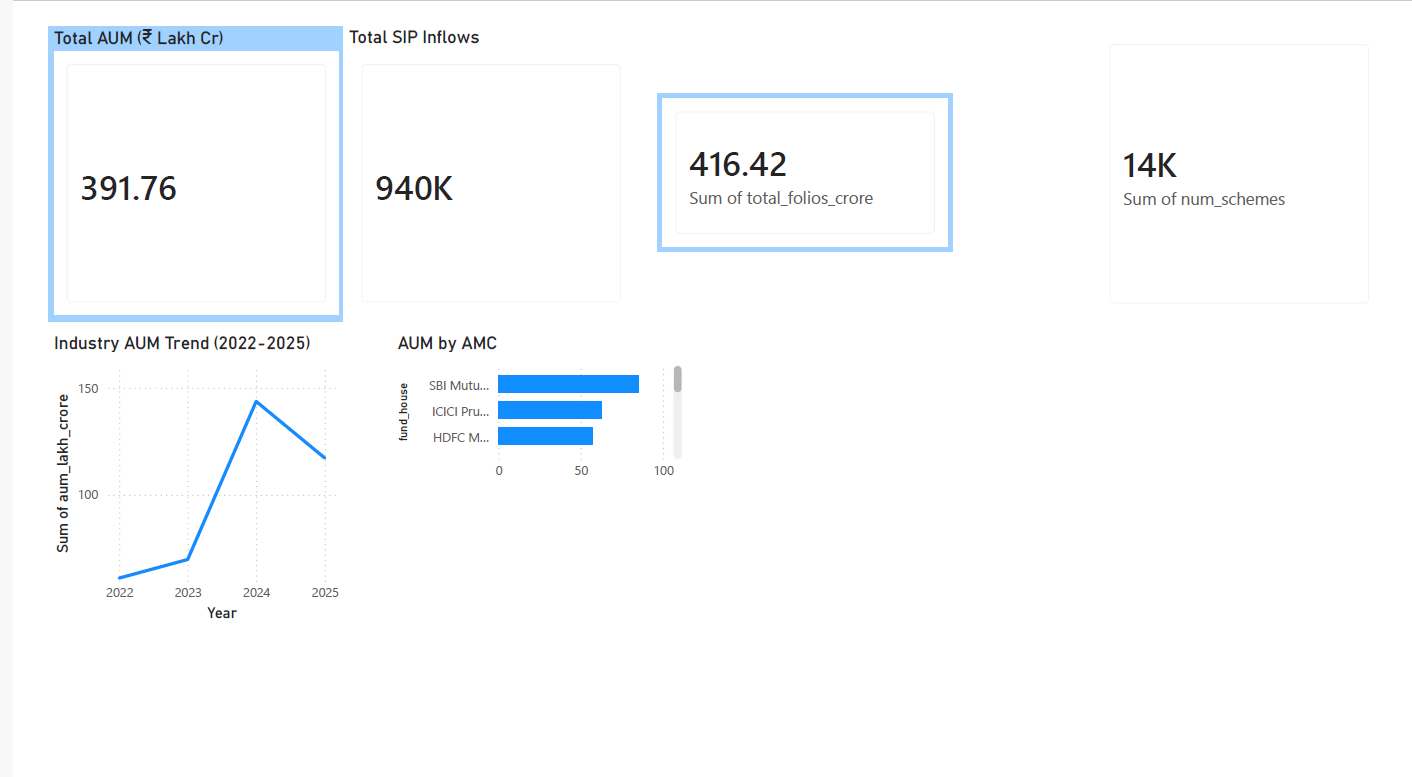

Layout of this report page (visuals, bound fields, positions):
{"tool":"powerbi","page":{"name":"Industry Overview","canvas":[1280,720],"ordinal":0},"visuals":[{"type":"cardVisual","title":"Total AUM (₹ Lakh Cr)","fields":{"Data":["Sum(03_aum_by_fund_house.aum_lakh_crore)"]},"box":[10,0,280,280],"z":0},{"type":"cardVisual","title":"Total SIP Inflows","fields":{"Data":["Sum(04_monthly_sip_inflows.sip_inflow_crore)"]},"box":[290,0,280,280],"z":1},{"type":"cardVisual","fields":{"Data":["Sum(06_industry_folio_count.total_folios_crore)"]},"box":[588,64,280,150],"z":2},{"type":"cardVisual","fields":{"Data":["Sum(03_aum_by_fund_house.num_schemes)"]},"box":[1000,0,280,280],"z":3},{"type":"lineChart","title":"Industry AUM Trend (2022-2025)","fields":{"Category":["03_aum_by_fund_house.date.Variation.Date Hierarchy.Year","03_aum_by_fund_house.date.Variation.Date Hierarchy.Quarter","03_aum_by_fund_house.date.Variation.Date Hierarchy.Month","03_aum_by_fund_house.date.Variation.Date Hierarchy.Day"],"Y":["Sum(03_aum_by_fund_house.aum_lakh_crore)"]},"box":[10,290,280,280],"z":4},{"type":"clusteredBarChart","title":"AUM by AMC","fields":{"Y":["Sum(03_aum_by_fund_house.aum_lakh_crore)"],"Category":["03_aum_by_fund_house.fund_house"]},"box":[336,290,280,150],"z":5}]}

Visuals, with their boxes in screenshot pixels (x1, y1, x2, y2), scaled from the page's 1280x720 canvas onto the 1412x777 screenshot:
"Total AUM (₹ Lakh Cr)" cardVisual: 11:0:320:302
"Total SIP Inflows" cardVisual: 320:0:629:302
cardVisual - Sum(06_industry_folio_count.total_folios_crore): 649:69:958:231
cardVisual - Sum(03_aum_by_fund_house.num_schemes): 1103:0:1411:302
"Industry AUM Trend (2022-2025)" lineChart: 11:313:320:615
"AUM by AMC" clusteredBarChart: 371:313:680:475
